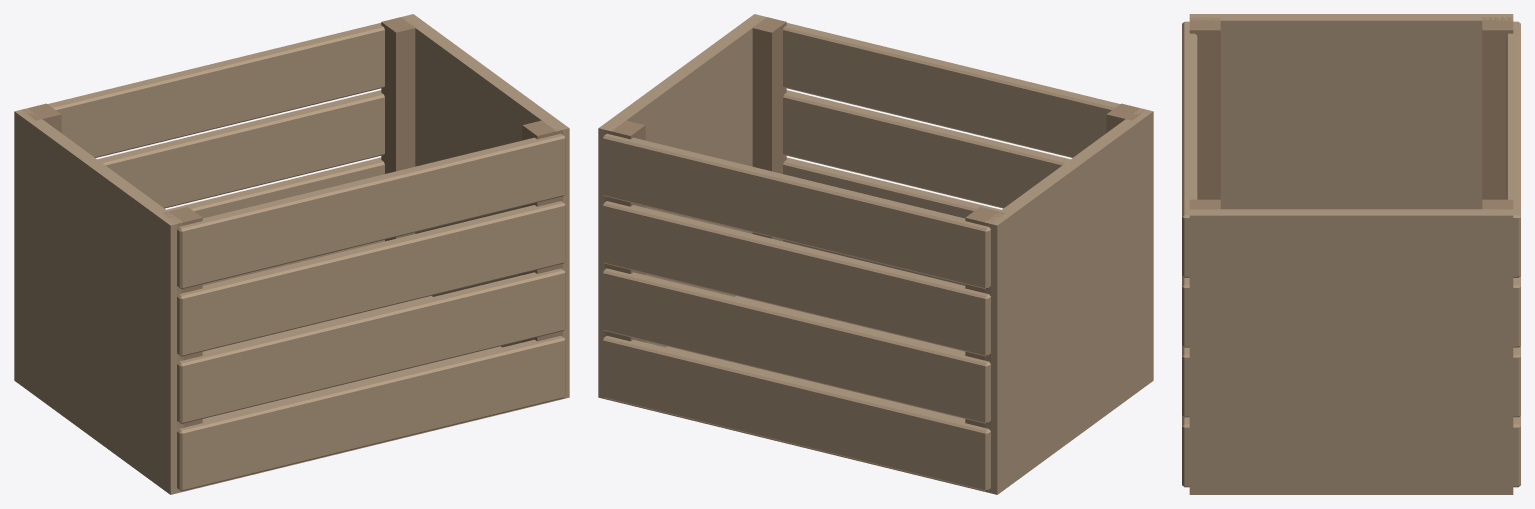
The model's file is sandik.glb.
3 views of the same model, side by side, from view 1: azimuth 30°, elevation 25°; view 2: azimuth 150°, elevation 25°; view 3: azimuth 270°, elevation 25° (orthographic). The views are drawn at different scales.
Parts seen in each view (by area): view 1: sandik; view 2: sandik; view 3: sandik.
Part boxes in pixels (<box>): sandik: <box>14,14,569,494</box>; sandik: <box>598,14,1153,494</box>; sandik: <box>1182,14,1520,494</box>.
Size of the model in its own units: 0.62 by 0.4 by 0.44.
